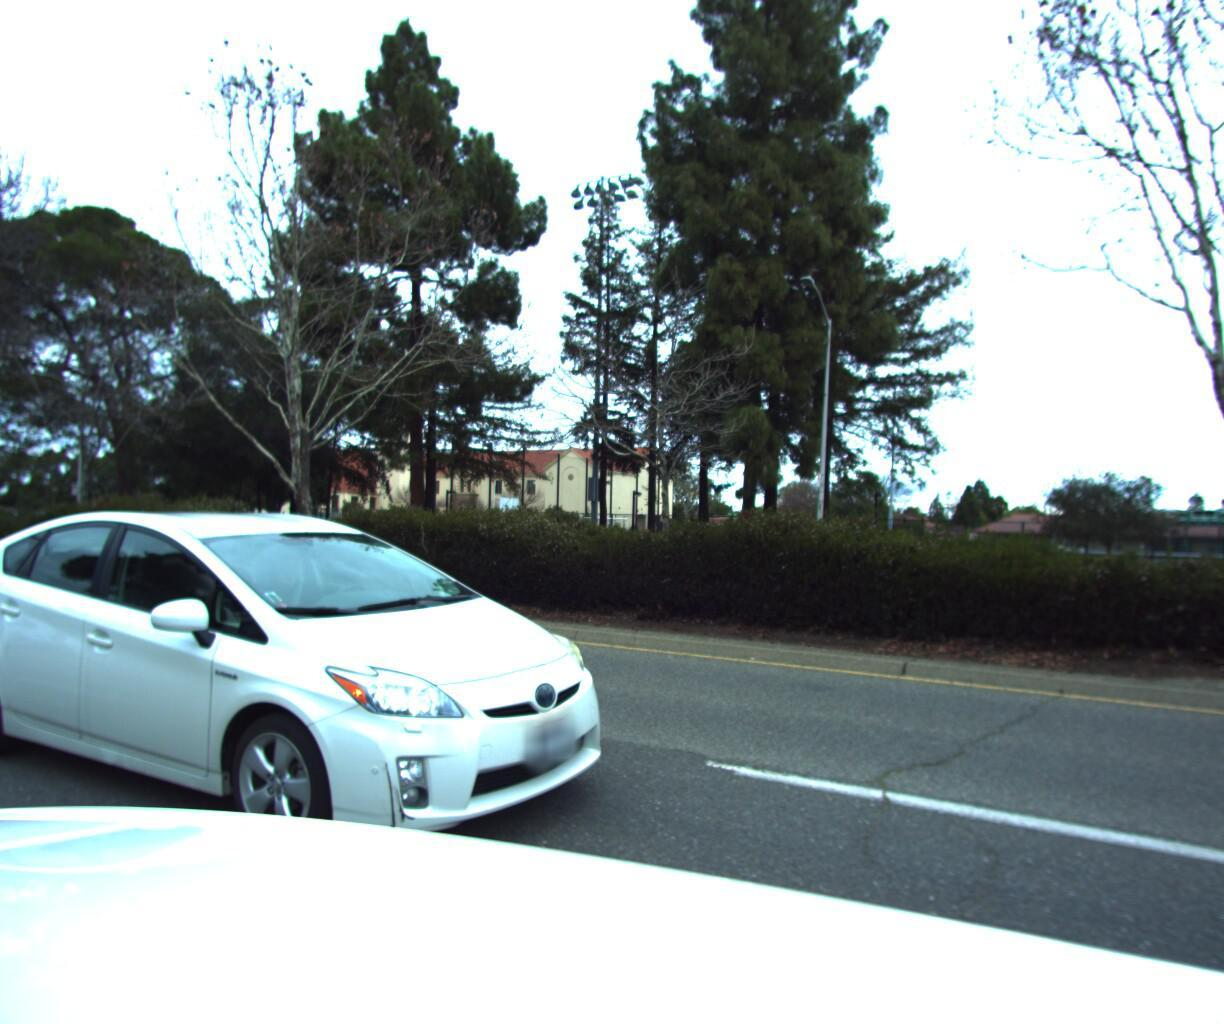car: (0, 495, 650, 922)
